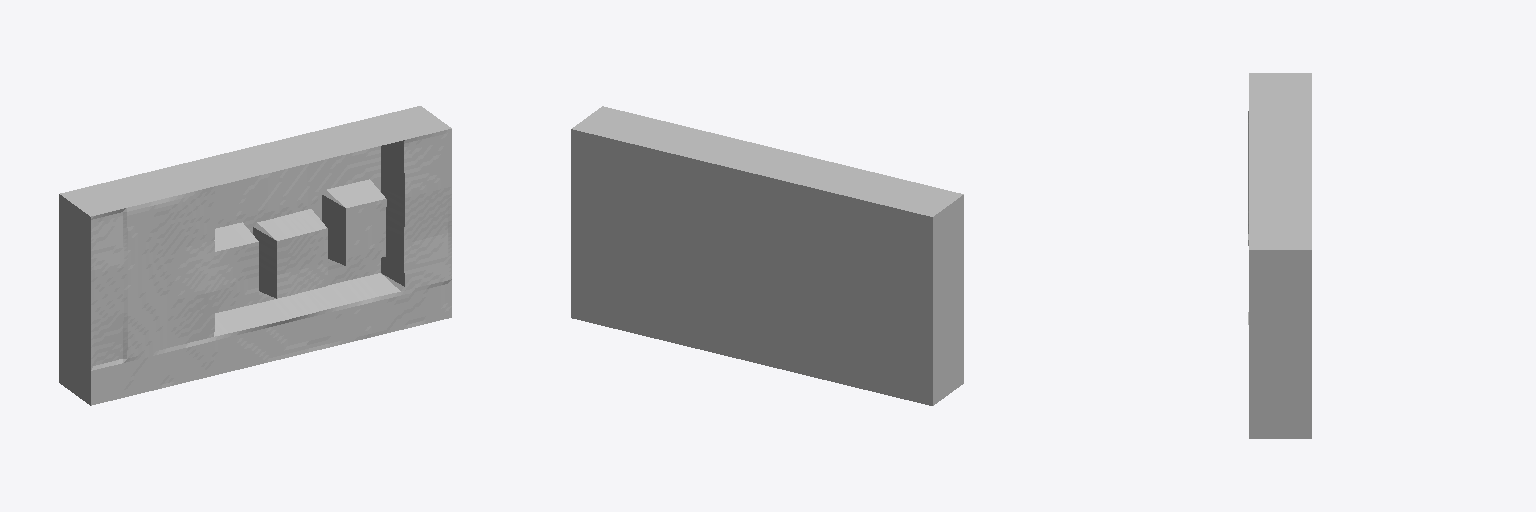
File: rectangular_prism_bumps_5_8.obj
The picture shows the model from 3 angles: view 1: azimuth 30°, elevation 25°; view 2: azimuth 150°, elevation 25°; view 3: azimuth 270°, elevation 25°; orthographic projection.
Bounding box in the file's own units: 10 × 5 × 1.53.